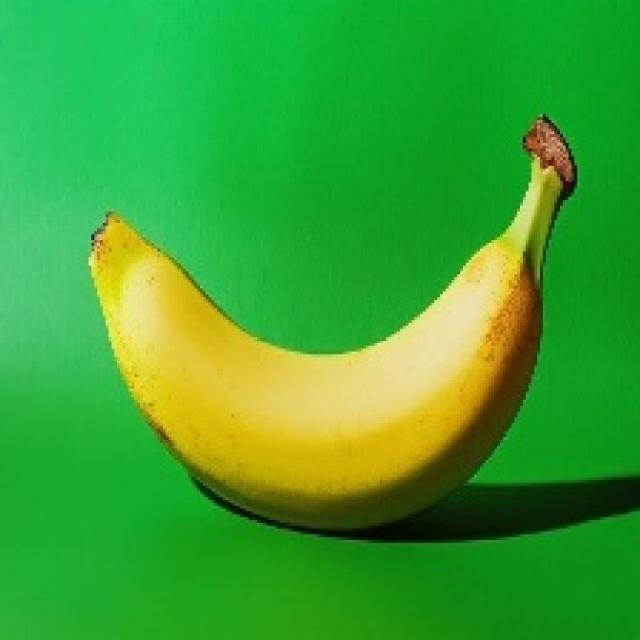Banana: (86, 111, 577, 532)
